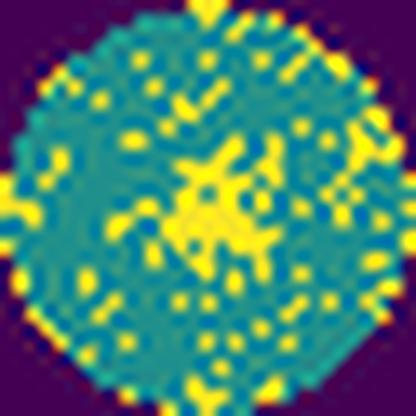Center: (104, 121, 294, 288)
